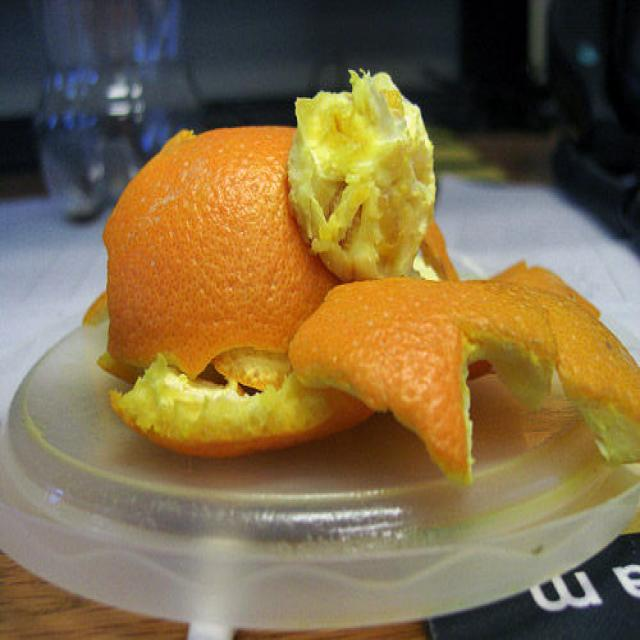Cascara de naranja: (102, 56, 640, 482)
